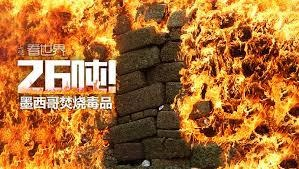fire: (167, 0, 298, 165)
